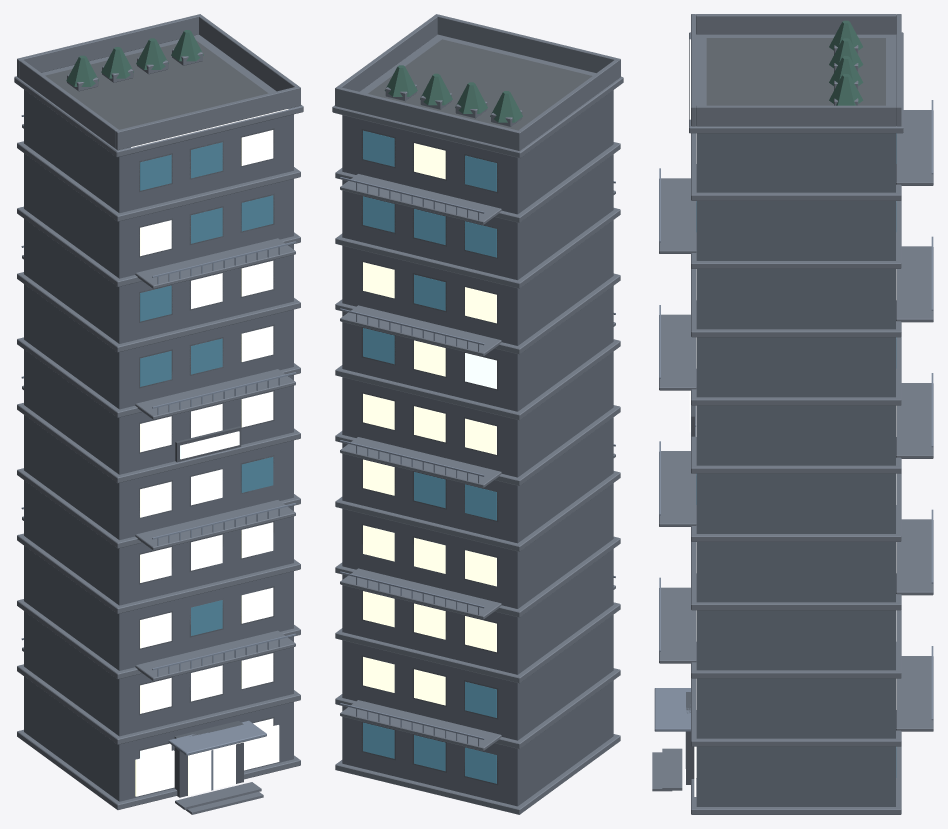
File: residential_tower.glb
The picture shows the model from 3 angles, left to right: view 1: azimuth 30°, elevation 25°; view 2: azimuth 150°, elevation 25°; view 3: azimuth 270°, elevation 25°; orthographic projection. The views are drawn at different scales.
Parts seen in each view (by area): view 1: residential_tower_Graphite@residential, residential_tower_Concrete@residential, residential_tower_WarmGlass, residential_tower_Sidewalk, residential_tower_BlackGlass, residential_tower_DarkAlloy@residential, residential_tower_Steel@residential, residential_tower_Foliage, residential_tower_SoftBlue; view 2: residential_tower_Graphite@residential, residential_tower_Concrete@residential, residential_tower_WarmGlass, residential_tower_BlackGlass, residential_tower_Sidewalk, residential_tower_DarkAlloy@residential, residential_tower_Steel@residential, residential_tower_Foliage, residential_tower_CoolGlass; view 3: residential_tower_Graphite@residential, residential_tower_Concrete@residential, residential_tower_Sidewalk, residential_tower_Steel@residential, residential_tower_Foliage, residential_tower_DarkAlloy@residential, residential_tower_WarmGlass.
Boxes of the visible parts, bbox=[...] form: residential_tower_Graphite@residential: bbox=[24, 89, 293, 801]; residential_tower_Concrete@residential: bbox=[14, 14, 303, 814]; residential_tower_WarmGlass: bbox=[135, 130, 279, 796]; residential_tower_Sidewalk: bbox=[45, 40, 268, 129]; residential_tower_BlackGlass: bbox=[140, 142, 273, 635]; residential_tower_DarkAlloy@residential: bbox=[139, 128, 274, 797]; residential_tower_Steel@residential: bbox=[21, 115, 296, 790]; residential_tower_Foliage: bbox=[66, 30, 203, 86]; residential_tower_SoftBlue: bbox=[131, 109, 288, 755]; residential_tower_Graphite@residential: bbox=[342, 90, 613, 806]; residential_tower_Concrete@residential: bbox=[332, 14, 623, 814]; residential_tower_WarmGlass: bbox=[363, 143, 496, 705]; residential_tower_BlackGlass: bbox=[363, 130, 496, 783]; residential_tower_Sidewalk: bbox=[368, 39, 592, 130]; residential_tower_DarkAlloy@residential: bbox=[361, 129, 498, 785]; residential_tower_Steel@residential: bbox=[340, 177, 615, 746]; residential_tower_Foliage: bbox=[384, 65, 522, 122]; residential_tower_CoolGlass: bbox=[465, 353, 496, 388]; residential_tower_Graphite@residential: bbox=[696, 133, 895, 806]; residential_tower_Concrete@residential: bbox=[652, 14, 933, 814]; residential_tower_Sidewalk: bbox=[706, 38, 885, 105]; residential_tower_Steel@residential: bbox=[654, 100, 933, 768]; residential_tower_Foliage: bbox=[829, 20, 863, 105]; residential_tower_DarkAlloy@residential: bbox=[686, 405, 696, 784]; residential_tower_WarmGlass: bbox=[685, 133, 896, 796].
Size of the model in its own units: 10.2 by 36.1 by 12.7.
